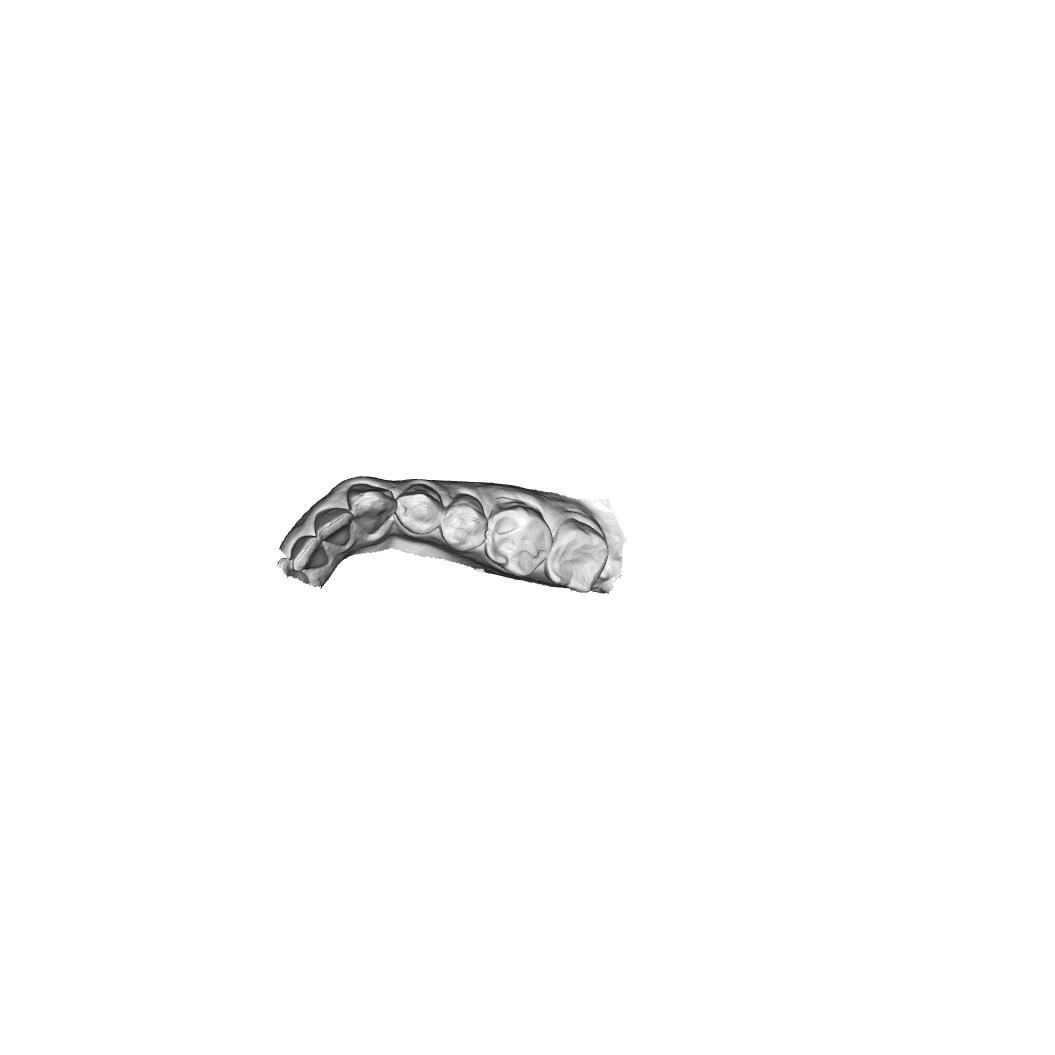canine: (346, 482, 397, 535)
incisor: (313, 506, 353, 548), (290, 535, 329, 573)
molar: (483, 499, 555, 578), (542, 517, 610, 595)
premolar: (439, 493, 489, 552), (394, 483, 444, 535)
